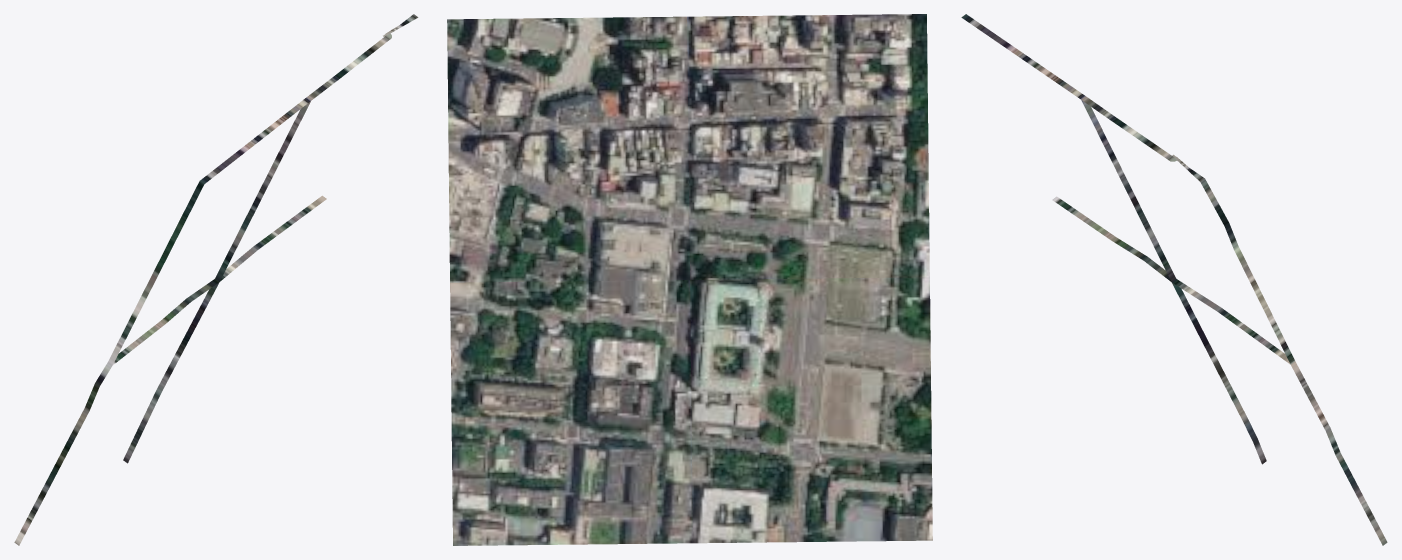
The picture shows the model from 3 angles, left to right: view 1: azimuth 30°, elevation 25°; view 2: azimuth 150°, elevation 25°; view 3: azimuth 270°, elevation 25°; orthographic projection. The views are drawn at different scales.
Size of the model in its own units: 612 by 556 by 517.
Materials: 1 (1 with a texture image).
